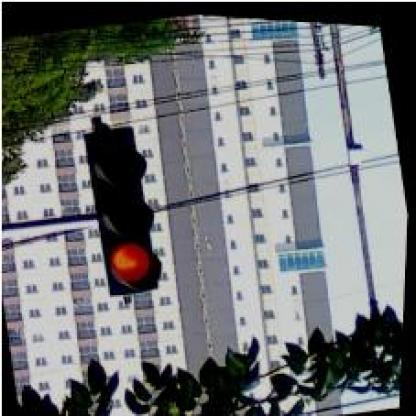red: (78, 121, 171, 297)
